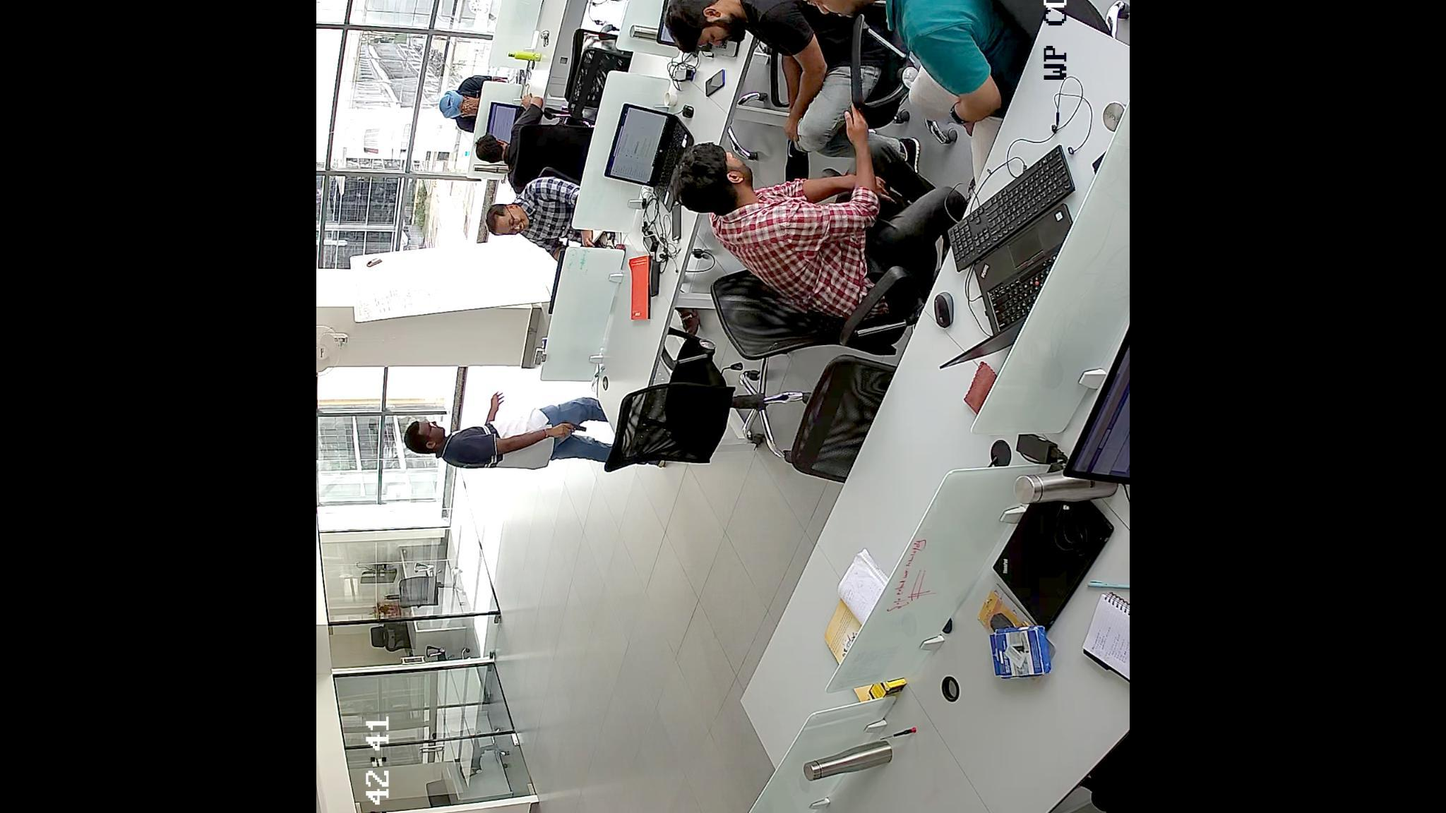gun: (558, 421, 587, 437)
